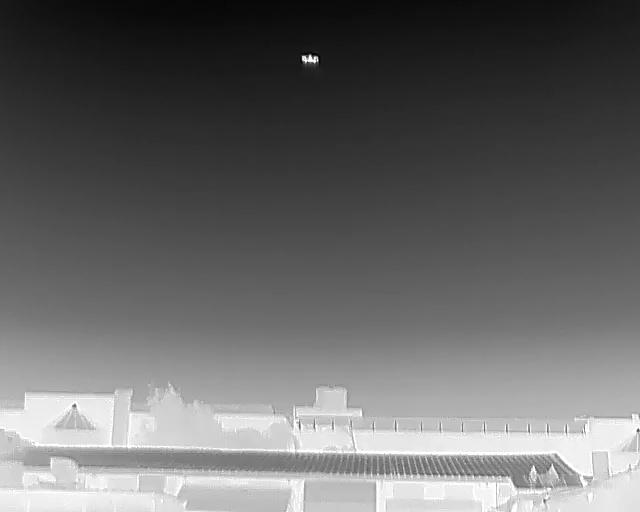fpv-drone: (301, 53, 319, 66)
